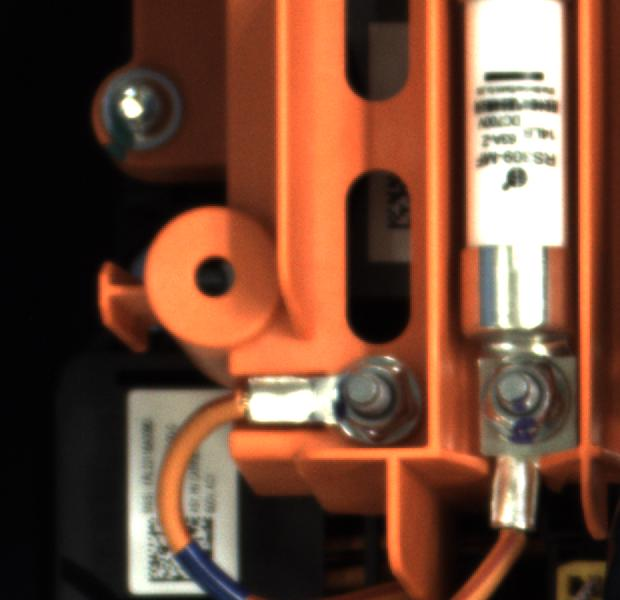screw_m: (90, 62, 202, 163)
screw_s: (472, 353, 576, 442), (326, 356, 417, 440)
